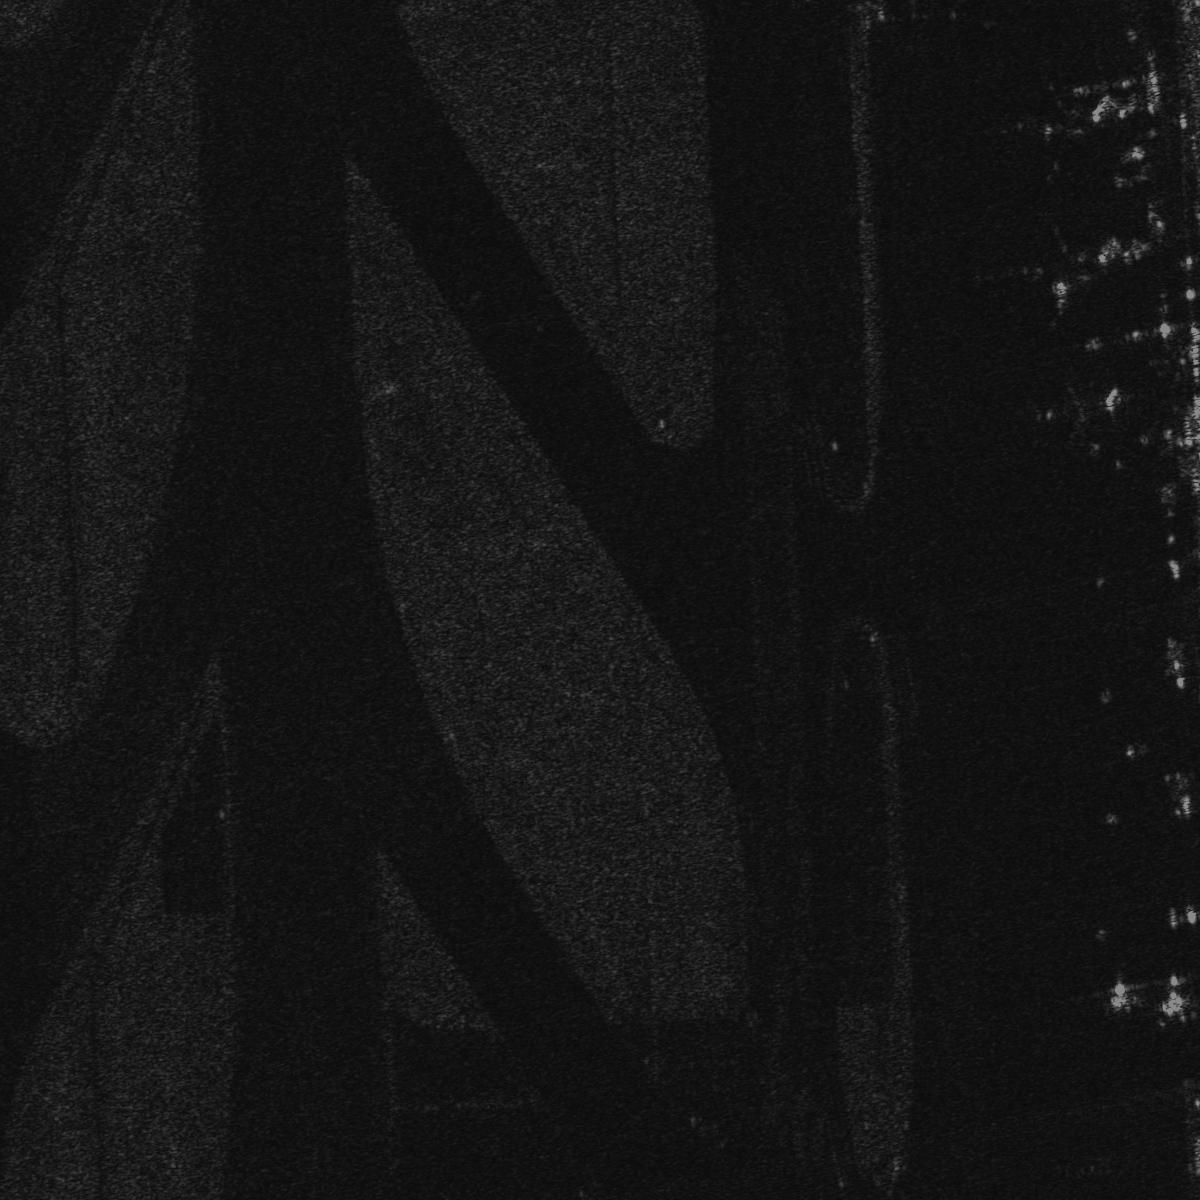ARJ21: (1012, 211, 1173, 320)
other: (1043, 41, 1175, 166), (1034, 381, 1120, 451)
